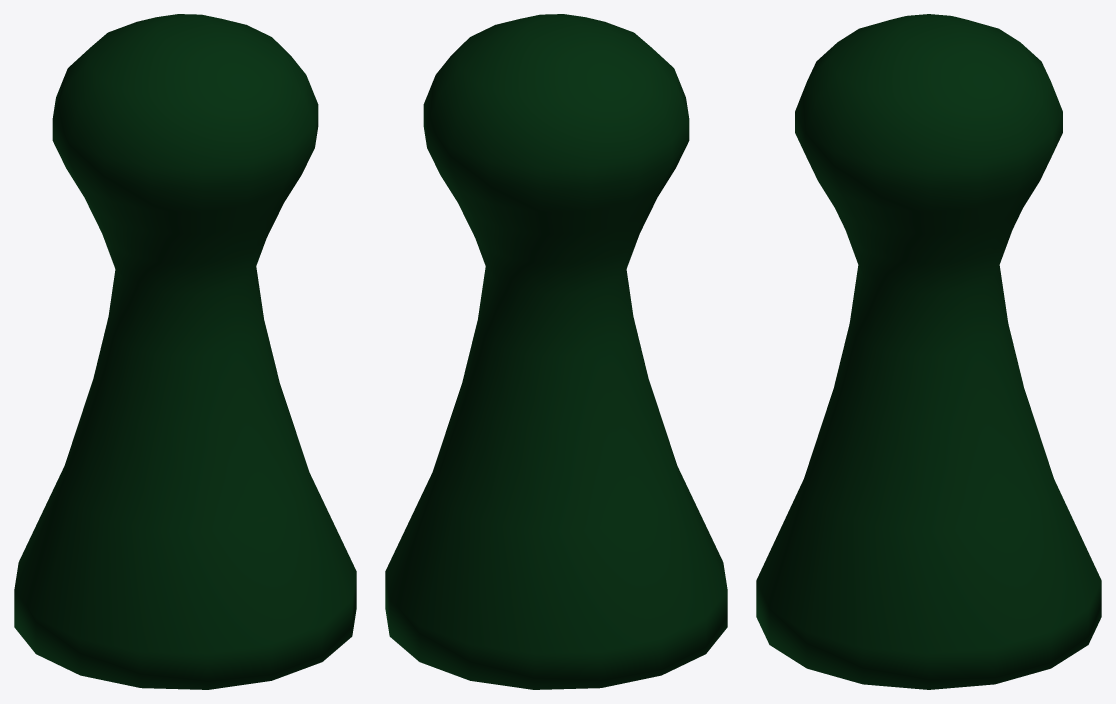
Rendered from dark_green.glb.
3 views of the same model, side by side, from view 1: azimuth 30°, elevation 25°; view 2: azimuth 150°, elevation 25°; view 3: azimuth 270°, elevation 25° (orthographic).
Visible parts, largest first — view 1: GreenGameFigure2; view 2: GreenGameFigure2; view 3: GreenGameFigure2.
Part boxes in pixels (x1=…): GreenGameFigure2: x1=14, y1=14, x2=356, y2=689; GreenGameFigure2: x1=385, y1=14, x2=727, y2=689; GreenGameFigure2: x1=756, y1=14, x2=1101, y2=689.
Bounding box in the file's own units: 2.27 × 4.25 × 2.27.
